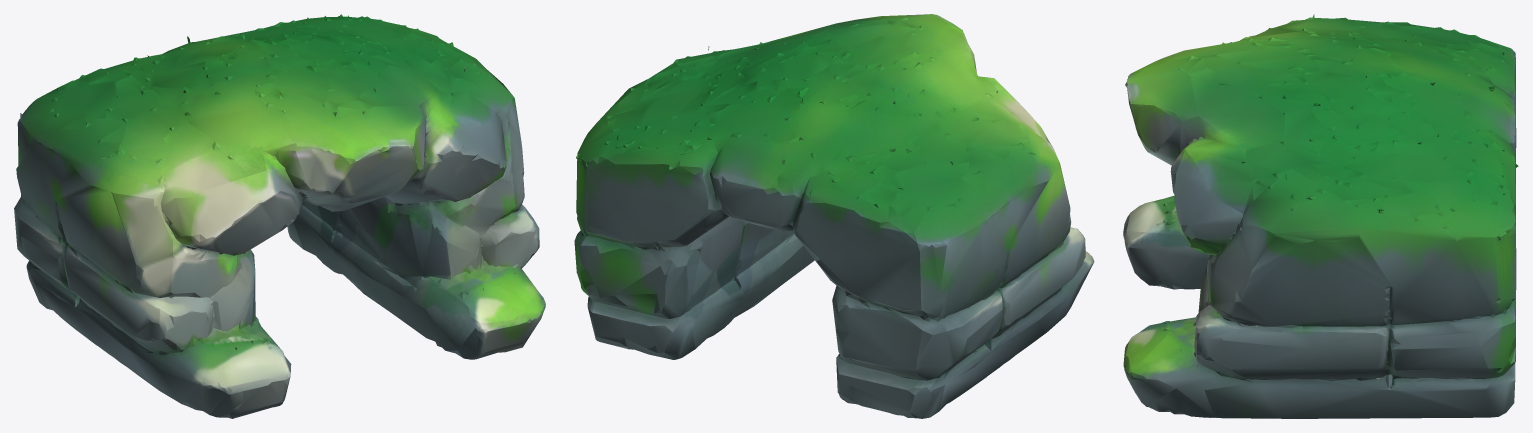
Rendered from arch.glb.
3 renders of one model, left to right at view 1: azimuth 30°, elevation 25°; view 2: azimuth 150°, elevation 25°; view 3: azimuth 270°, elevation 25°, orthographic. The views are drawn at different scales.
Parts seen in each view (by area): view 1: Rodin_arch; view 2: Rodin_arch; view 3: Rodin_arch.
Boxes of the visible parts, x1=… form: Rodin_arch: x1=14, y1=14, x2=545, y2=418; Rodin_arch: x1=574, y1=14, x2=1094, y2=418; Rodin_arch: x1=1123, y1=14, x2=1518, y2=418.
Bounding box in the file's own units: 7.5 × 4.52 × 5.98.
Materials: 1 (1 with a texture image).
